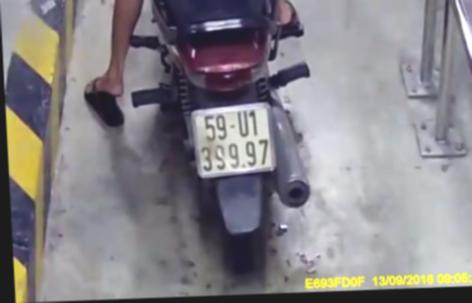License_Plate: (179, 100, 282, 179)
